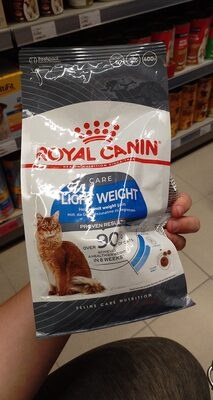Light weight: (11, 20, 202, 380)
